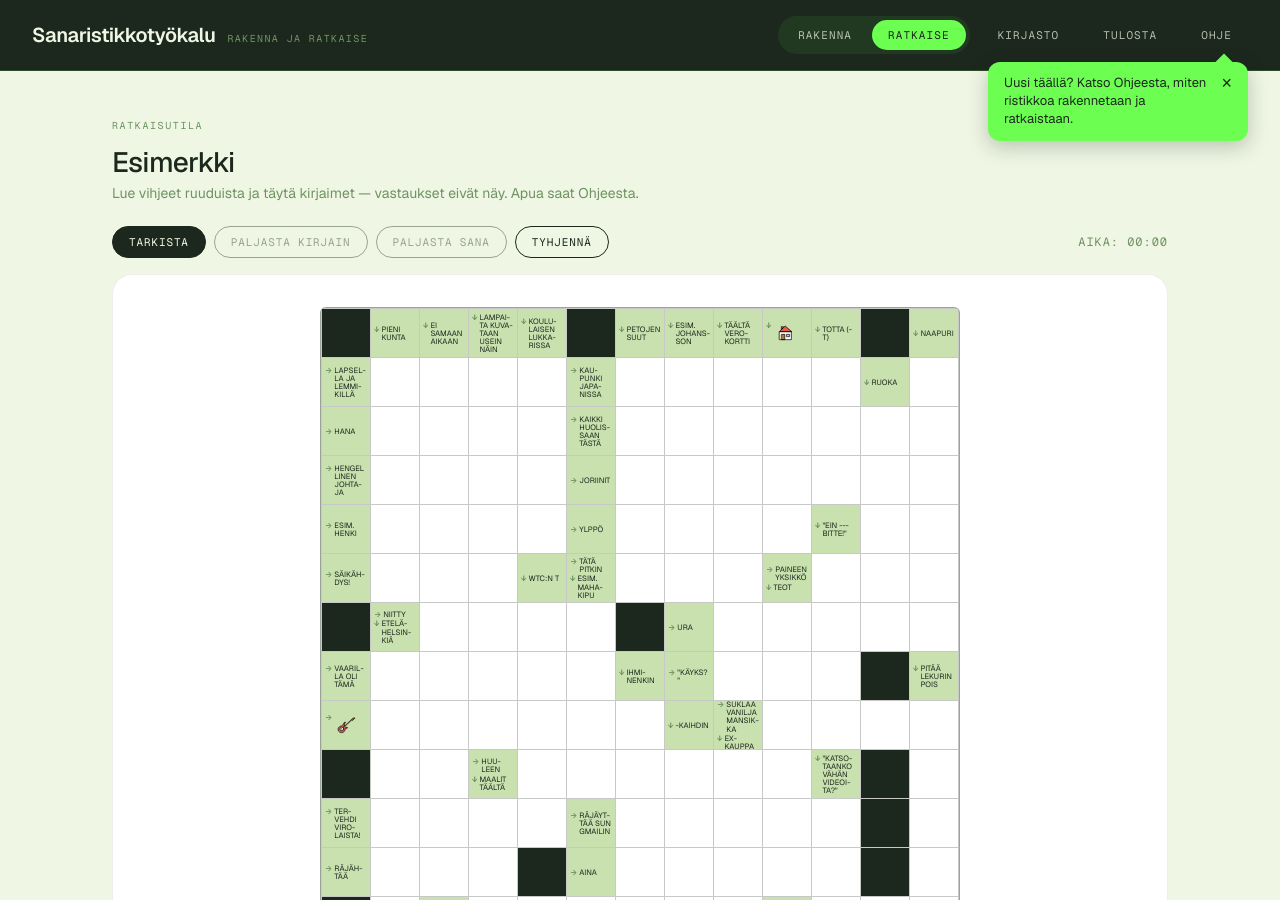
Scenario: App — first-run help nudge › shows on a fresh profile, then stays gone after dismiss
Check: the message "Uusi täällä? Katso Ohjeesta, miten ristikkoa rakennetaan ja ratkaistaan. ×" is shown, box x1=988 y1=62 x2=1248 y2=141
Click the button with class "help-nudge__close": (1227, 83) x1=1222 y1=74 x2=1232 y2=92
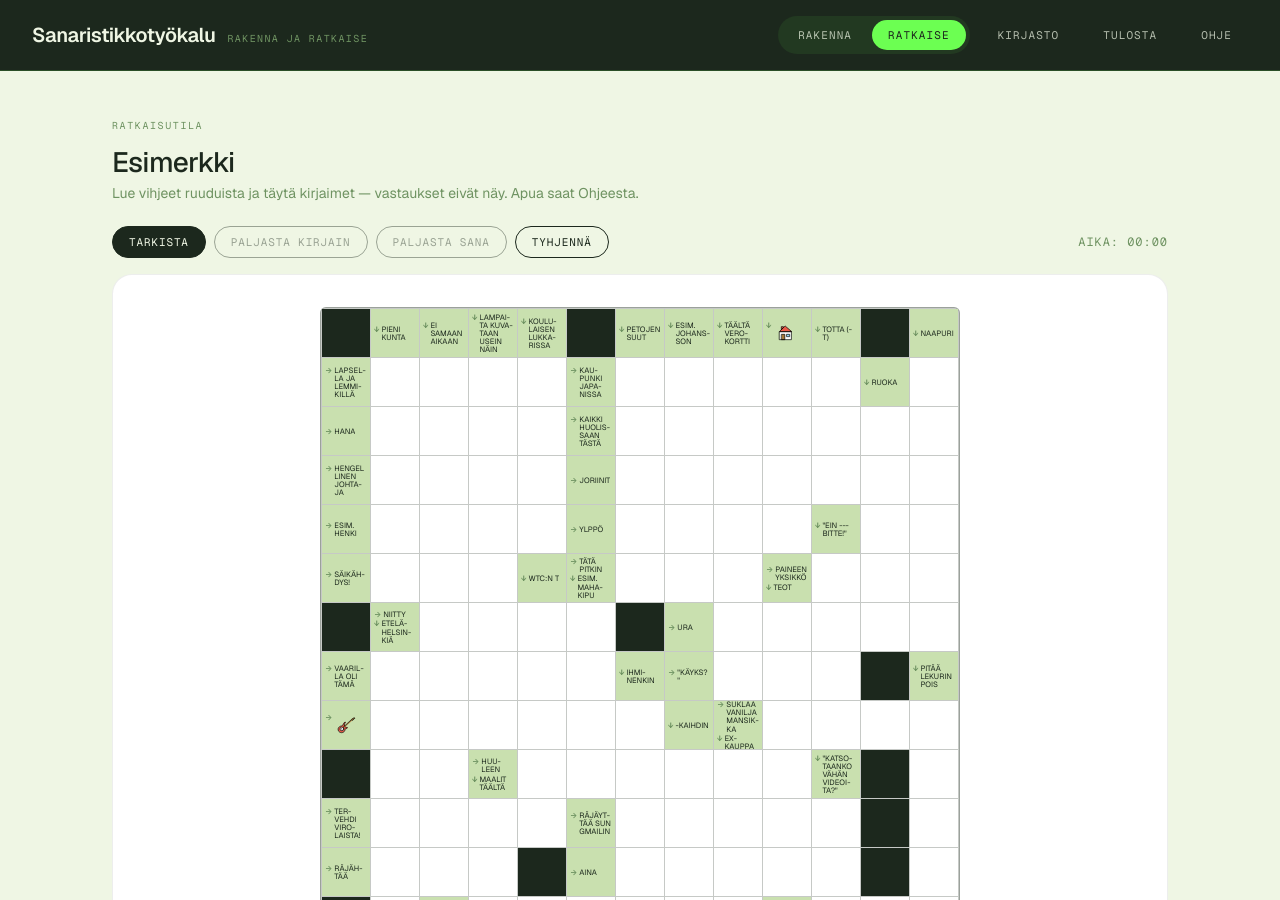
Check: the message with class "help-nudge" is gone
